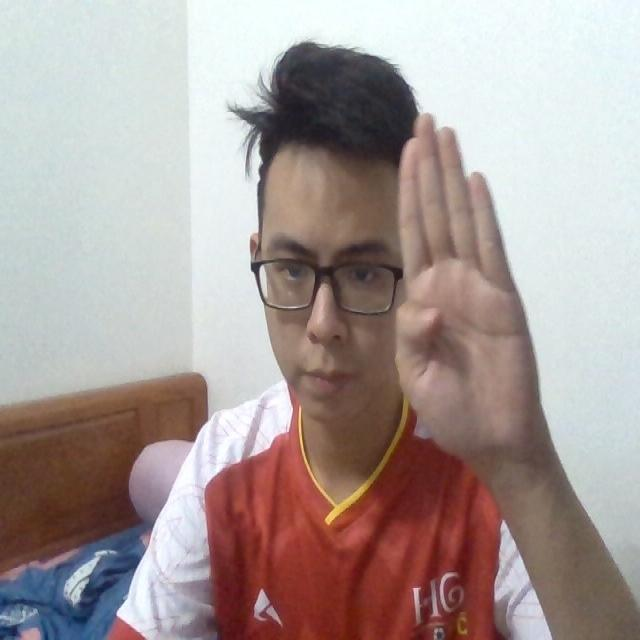B: (389, 104, 542, 458)
